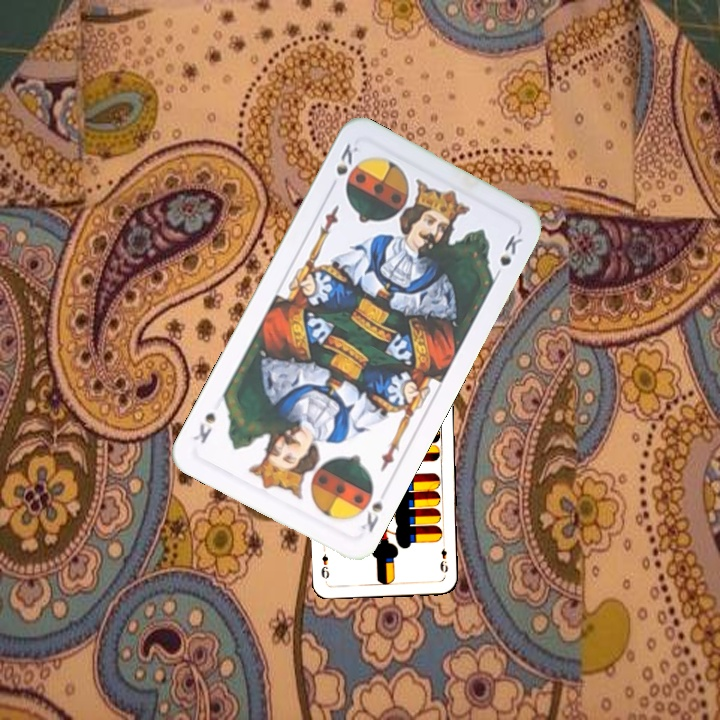E9: (436, 538, 451, 575)
SK: (356, 497, 386, 535), (332, 139, 361, 178)
